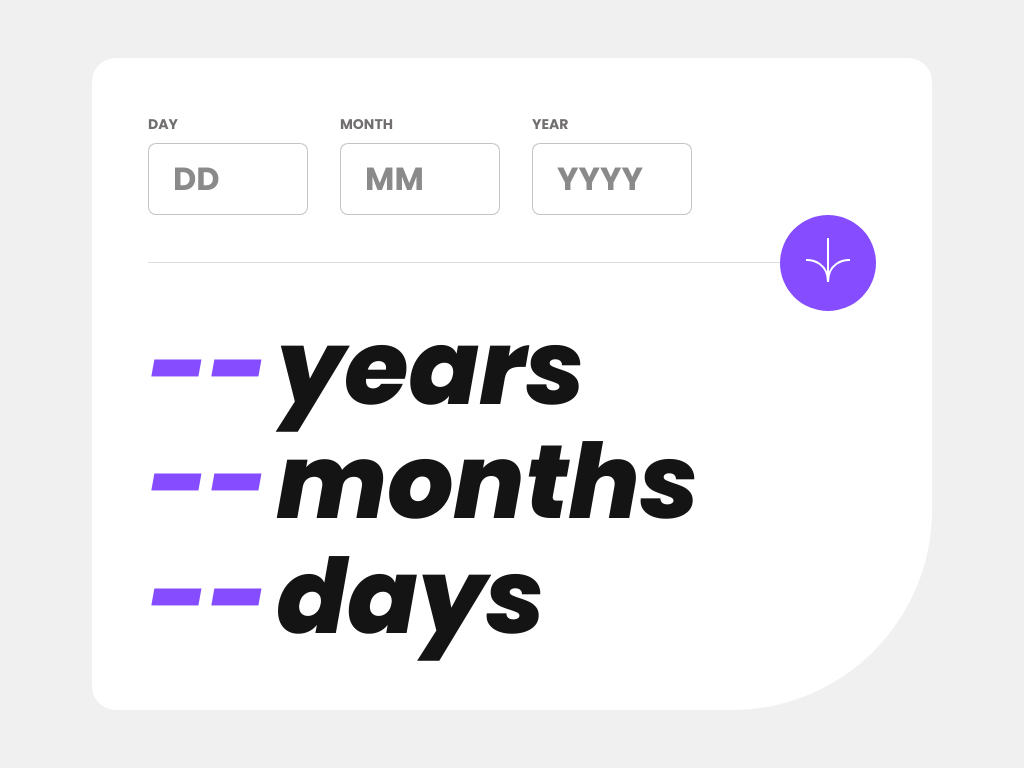
Test in <App /> › Error must be displayed when submit a empty input
Click the button with test id "button-submit": (828, 263) [780,215,876,311]
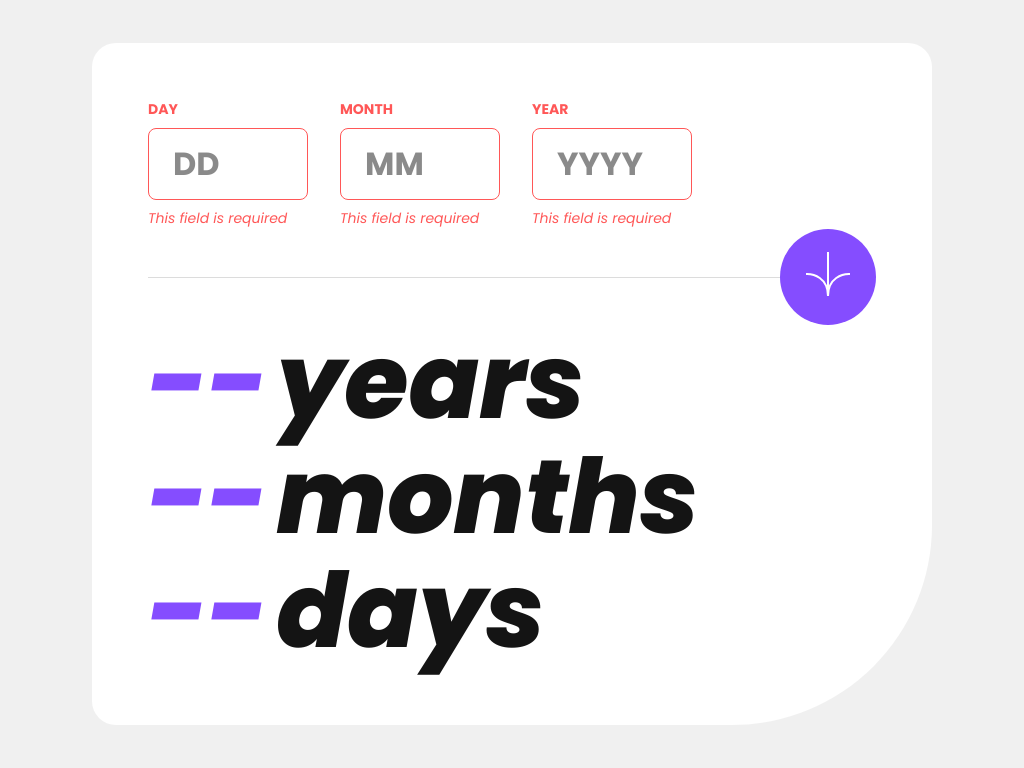
Result: the text "This field is required" is shown 3 times at [148,208,308,229]; [340,208,500,229]; [532,208,692,229]
